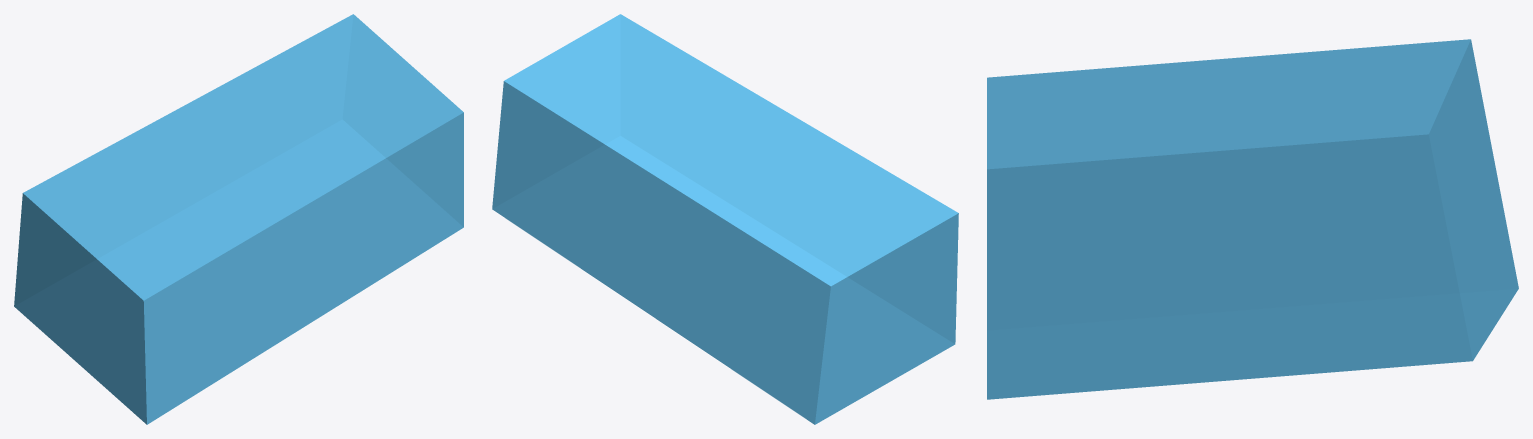
The model's file is Event_421127236_HErechit_1.fbx.
3 renders of one model, left to right at view 1: azimuth 30°, elevation 25°; view 2: azimuth 150°, elevation 25°; view 3: azimuth 270°, elevation 25°, orthographic. The views are drawn at different scales.
Parts seen in each view (by area): view 1: Model; view 2: Model; view 3: Model.
Part boxes in pixels (bbox=[...]): Model: bbox=[14, 14, 463, 424]; Model: bbox=[492, 14, 958, 424]; Model: bbox=[987, 39, 1518, 399].
Size of the model in its own units: 0.9734 by 0.7345 by 0.7004.
